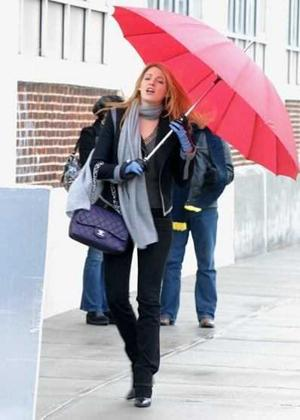person: (90, 63, 195, 410)
